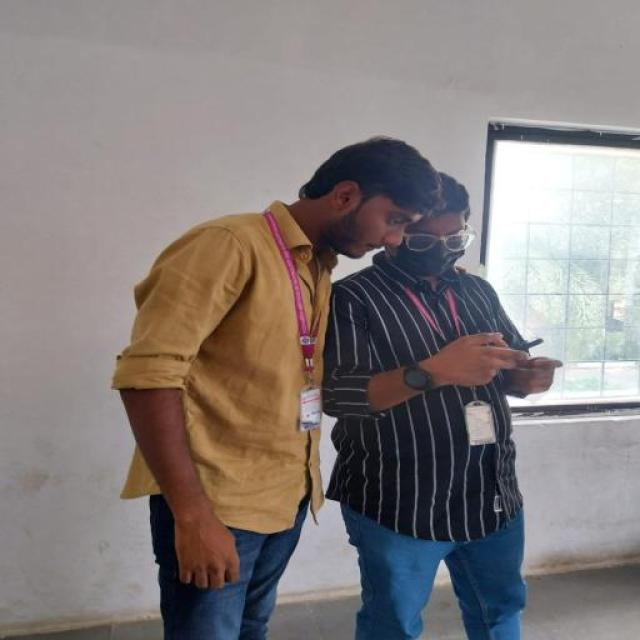id_card: (397, 279, 508, 454), (264, 209, 338, 436)
